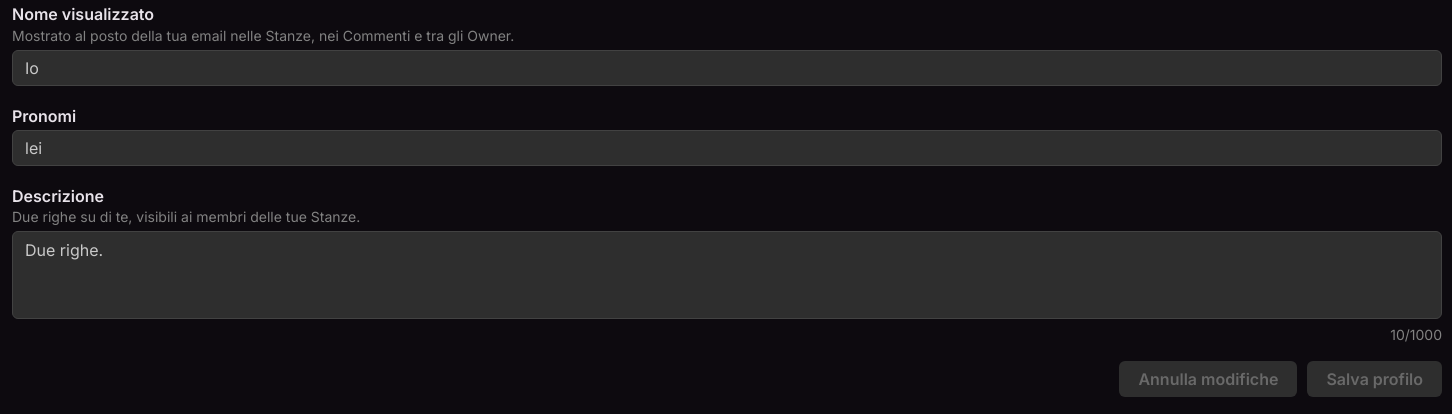
Test case: ProfileForm › reverts the edits when asked
Type " modificato" into the field labelled "Nome visualizzato".
click(727, 68); type(" modificato")  # box [12,50,1442,86]
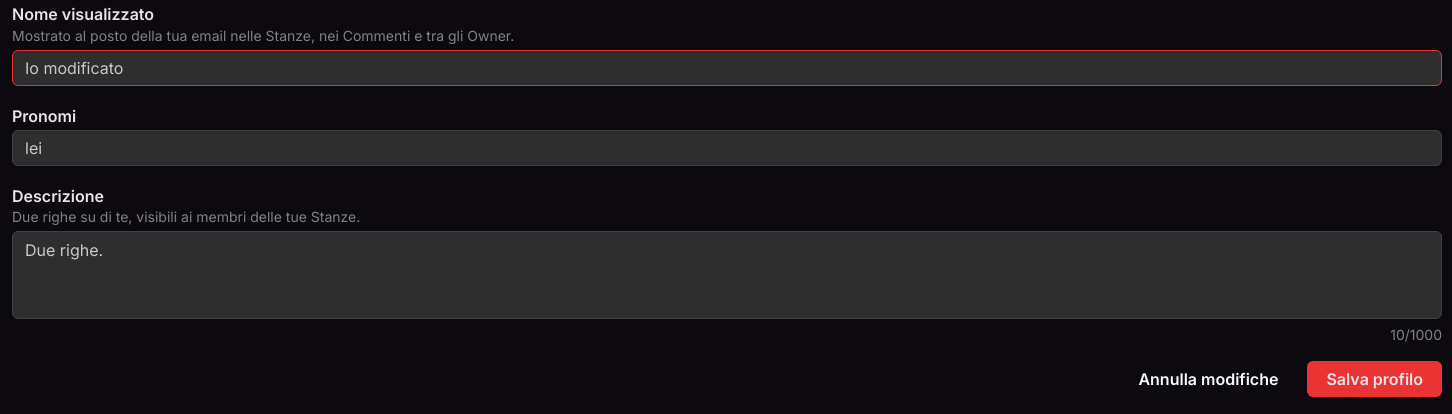
Click the button "Annulla modifiche".
click(1208, 379)  # box [1119,361,1297,397]
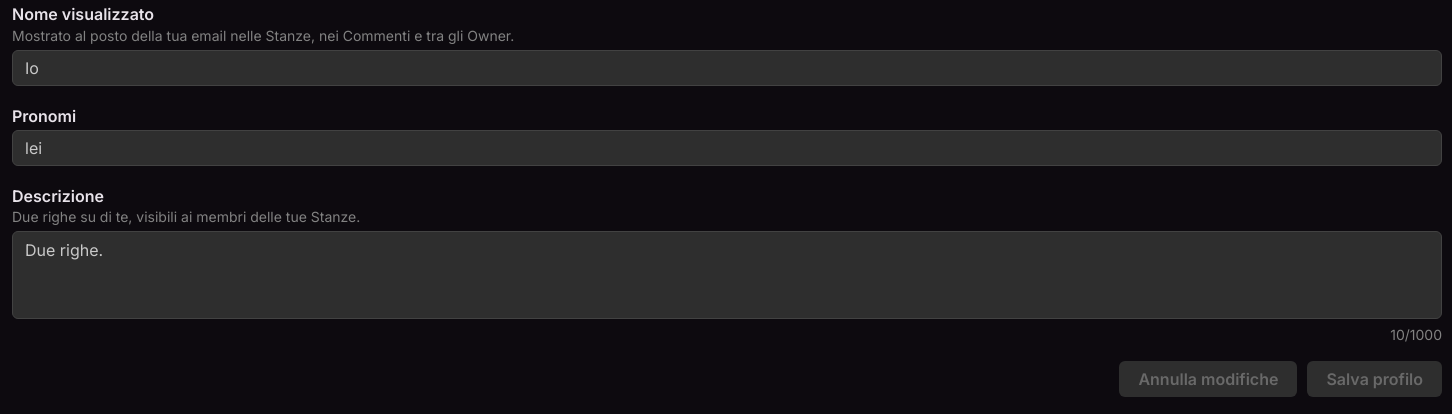
Check: the field labelled "Nome visualizzato" holds "Io", box [12,50,1442,86]
Check: the button "Salva profilo" is disabled, box [1308,361,1442,397]
